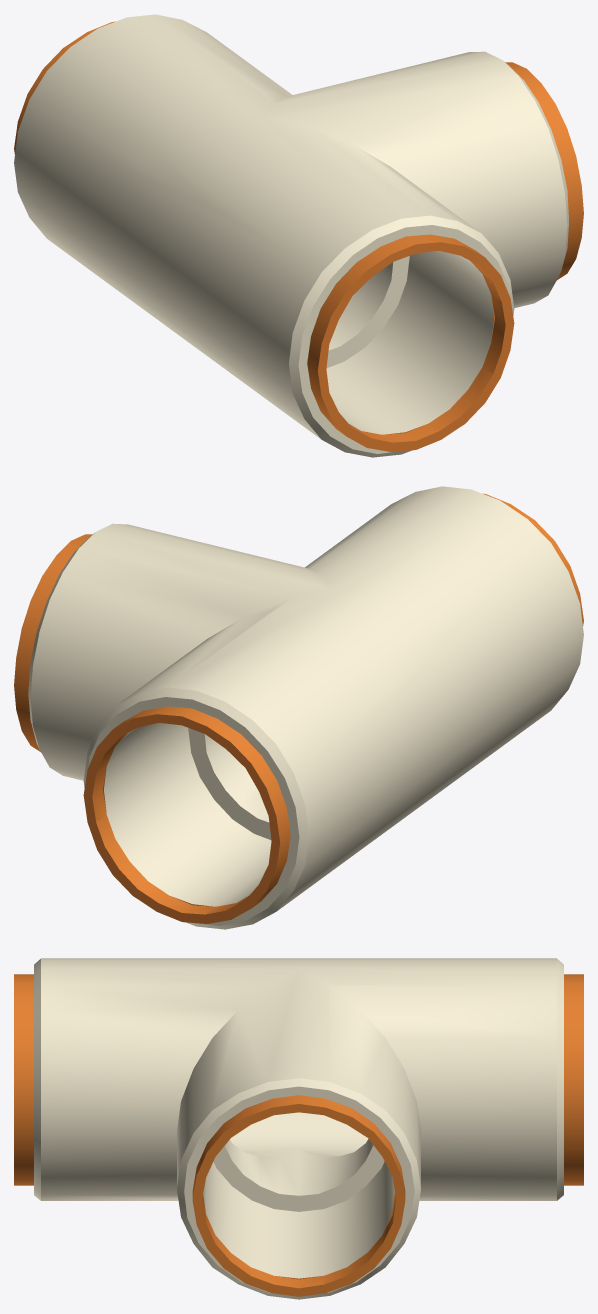
The model's file is pipes_supply__water_heater__88879707.glb.
The picture shows the model from 3 angles, top to bottom: view 1: azimuth 30°, elevation 25°; view 2: azimuth 150°, elevation 25°; view 3: azimuth 270°, elevation 25°; orthographic projection. The views are drawn at different scales.
Visible parts, largest first — view 1: fit_tee_pipe_supply_cold_wh_closet.901; view 2: fit_tee_pipe_supply_cold_wh_closet.901; view 3: fit_tee_pipe_supply_cold_wh_closet.901.
Boxes of the visible parts, x1=… form: fit_tee_pipe_supply_cold_wh_closet.901: x1=14, y1=14, x2=583, y2=457; fit_tee_pipe_supply_cold_wh_closet.901: x1=14, y1=486, x2=583, y2=929; fit_tee_pipe_supply_cold_wh_closet.901: x1=14, y1=958, x2=583, y2=1299.
Size of the model in its own units: 0.0476 by 0.0286 by 0.0667.
